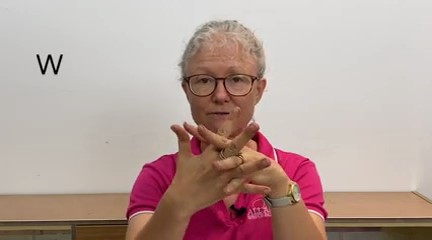W: (158, 99, 295, 216)
